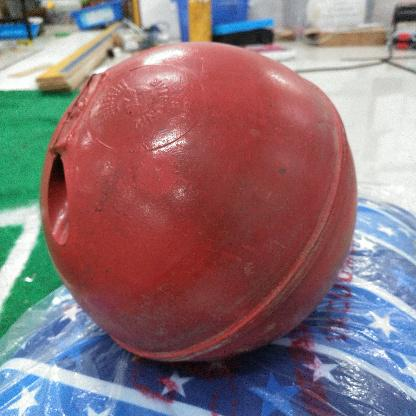red_buoy: (40, 40, 366, 369)
